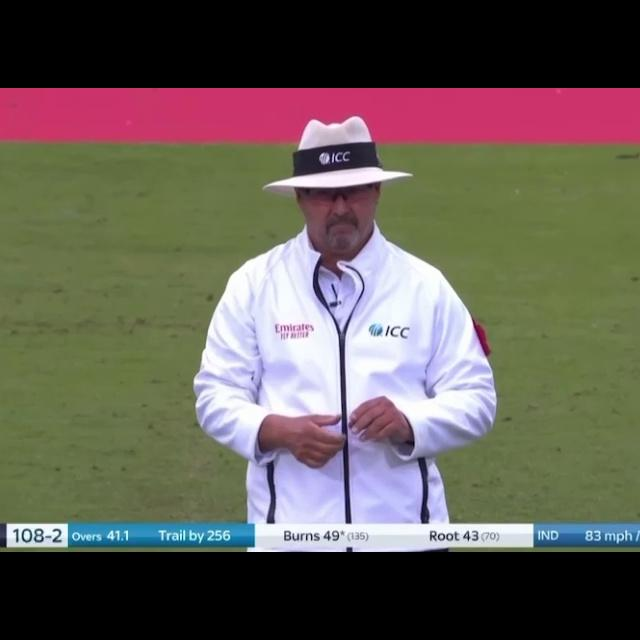umpire: (188, 104, 506, 552)
